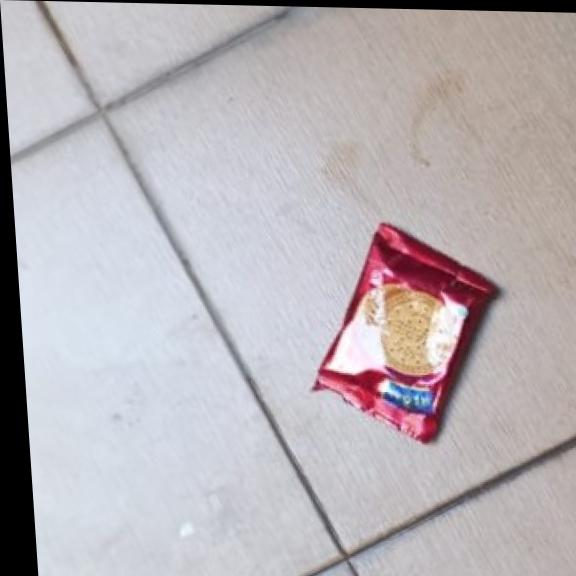Plastik: (298, 221, 511, 445)
